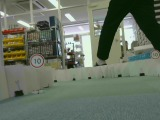speed_10: (29, 53, 46, 68), (150, 49, 160, 60)
